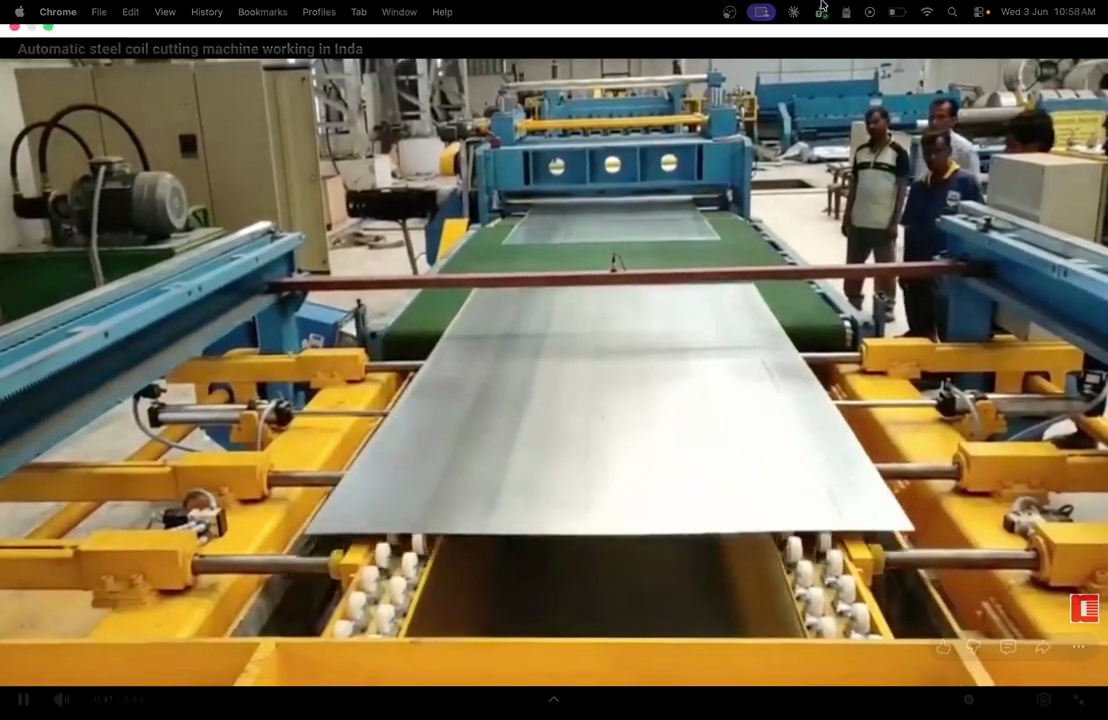steel plate: (308, 285, 910, 535), (503, 202, 719, 244)
